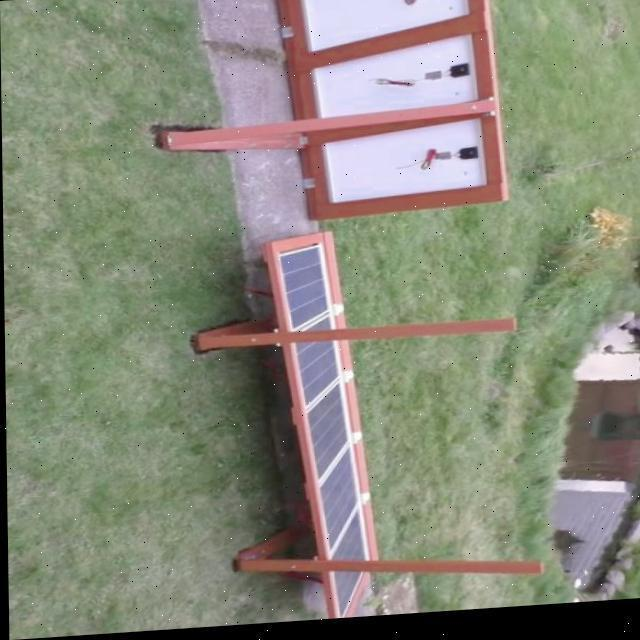Normal Solar Panel: (294, 342, 369, 570), (279, 247, 334, 336), (334, 571, 364, 623)
